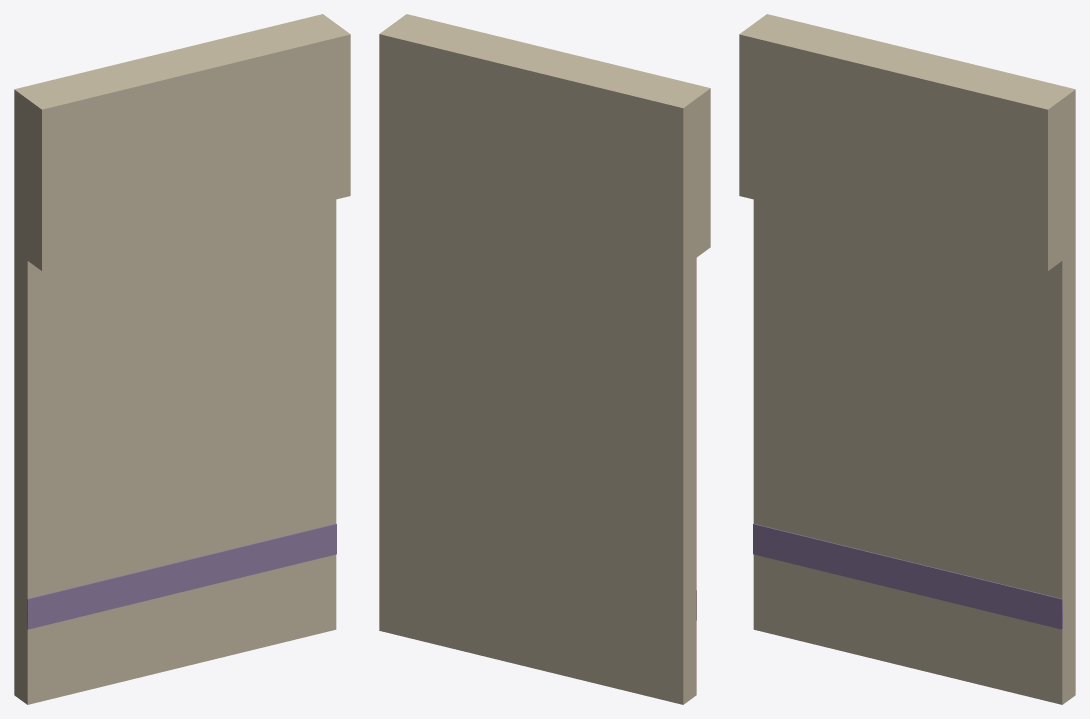
The model's file is towel-on-hook.glb.
3 renders of one model, left to right at view 1: azimuth 30°, elevation 25°; view 2: azimuth 150°, elevation 25°; view 3: azimuth 330°, elevation 25°, orthographic.
Visible parts, largest first — view 1: paper, accent-lilac; view 2: paper; view 3: paper, accent-lilac.
Boxes of the visible parts, x1,y1,x2,y2 form: paper: (14, 14, 350, 704); accent-lilac: (27, 523, 336, 629); paper: (379, 14, 710, 704); paper: (739, 14, 1075, 704); accent-lilac: (753, 523, 1062, 629).
Size of the model in its own units: 0.32 by 0.6 by 0.05.
